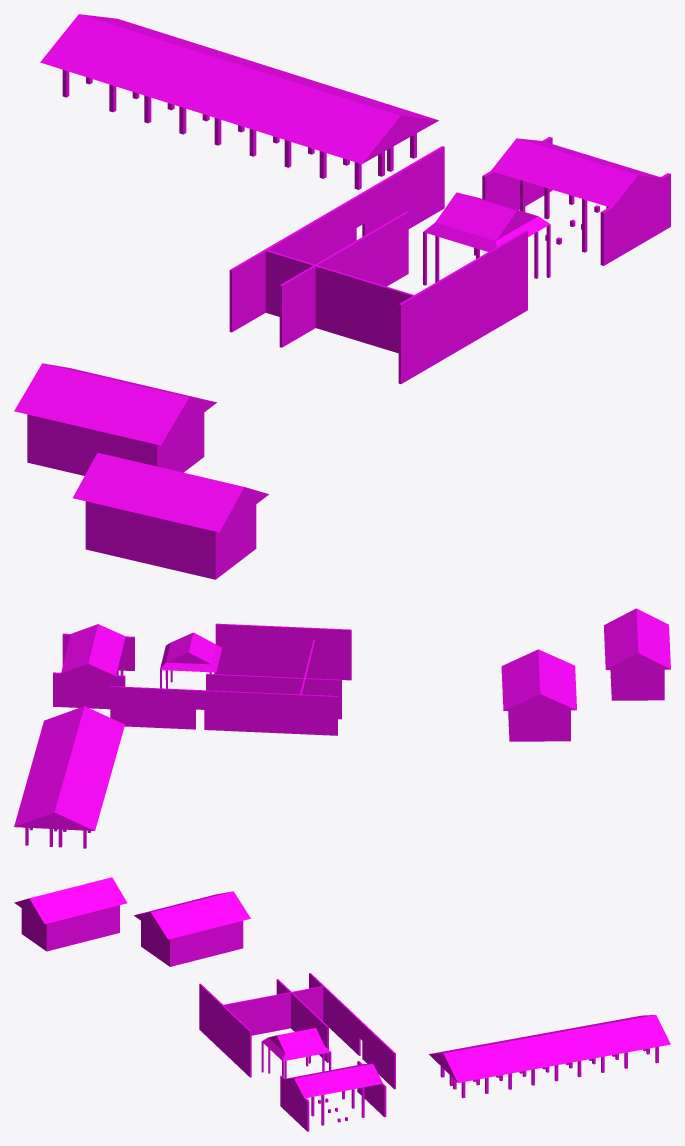
File: 1979-temple.obj
3 views of the same model, one above another, from view 1: azimuth 30°, elevation 25°; view 2: azimuth 150°, elevation 25°; view 3: azimuth 270°, elevation 25° (orthographic). The views are drawn at different scales.
Visible parts, largest first — view 1: Obj_000112, Obj_000114, Obj_000081, Obj_000048, Obj_000047, Obj_000046, Obj_000111, Obj_000045, Obj_000113, Obj_000120, Obj_000083, Obj_000119 (+2 smaller); view 2: Obj_000112, Obj_000081, Obj_000114, Obj_000048, Obj_000047, Obj_000120, Obj_000113, Obj_000082, Obj_000045, Obj_000046, Obj_000119, Obj_000083 (+2 smaller); view 3: Obj_000112, Obj_000048, Obj_000045, Obj_000081, Obj_000047, Obj_000046, Obj_000114, Obj_000111, Obj_000120, Obj_000113, Obj_000083, Obj_000119 (+1 smaller).
Part boxes in pixels (bbox=[...]): Obj_000112: bbox=[40, 14, 438, 163]; Obj_000114: bbox=[398, 230, 527, 383]; Obj_000081: bbox=[229, 146, 444, 332]; Obj_000048: bbox=[14, 363, 216, 445]; Obj_000047: bbox=[73, 452, 268, 532]; Obj_000046: bbox=[85, 501, 256, 579]; Obj_000111: bbox=[265, 250, 413, 353]; Obj_000045: bbox=[27, 413, 204, 475]; Obj_000113: bbox=[279, 211, 408, 347]; Obj_000120: bbox=[491, 138, 663, 207]; Obj_000083: bbox=[600, 173, 670, 265]; Obj_000119: bbox=[435, 192, 537, 240]; Obj_000112: bbox=[14, 706, 124, 830]; Obj_000081: bbox=[110, 686, 337, 735]; Obj_000114: bbox=[215, 623, 351, 680]; Obj_000048: bbox=[501, 649, 576, 710]; Obj_000047: bbox=[603, 608, 670, 669]; Obj_000120: bbox=[61, 624, 125, 675]; Obj_000113: bbox=[206, 673, 341, 719]; Obj_000082: bbox=[53, 672, 125, 709]; Obj_000045: bbox=[508, 710, 570, 741]; Obj_000046: bbox=[610, 669, 664, 700]; Obj_000119: bbox=[166, 632, 216, 664]; Obj_000083: bbox=[62, 633, 134, 670]; Obj_000112: bbox=[429, 1015, 670, 1082]; Obj_000048: bbox=[134, 891, 250, 939]; Obj_000045: bbox=[141, 921, 243, 966]; Obj_000081: bbox=[309, 973, 395, 1089]; Obj_000047: bbox=[14, 877, 127, 923]; Obj_000046: bbox=[21, 905, 119, 951]; Obj_000114: bbox=[199, 983, 251, 1077]; Obj_000111: bbox=[223, 986, 323, 1035]; Obj_000120: bbox=[284, 1063, 383, 1098]; Obj_000113: bbox=[276, 979, 328, 1062]; Obj_000083: bbox=[280, 1075, 309, 1131]; Obj_000119: bbox=[268, 1028, 324, 1053].
Bounding box in the file's own units: 92.69 × 9 × 117.
